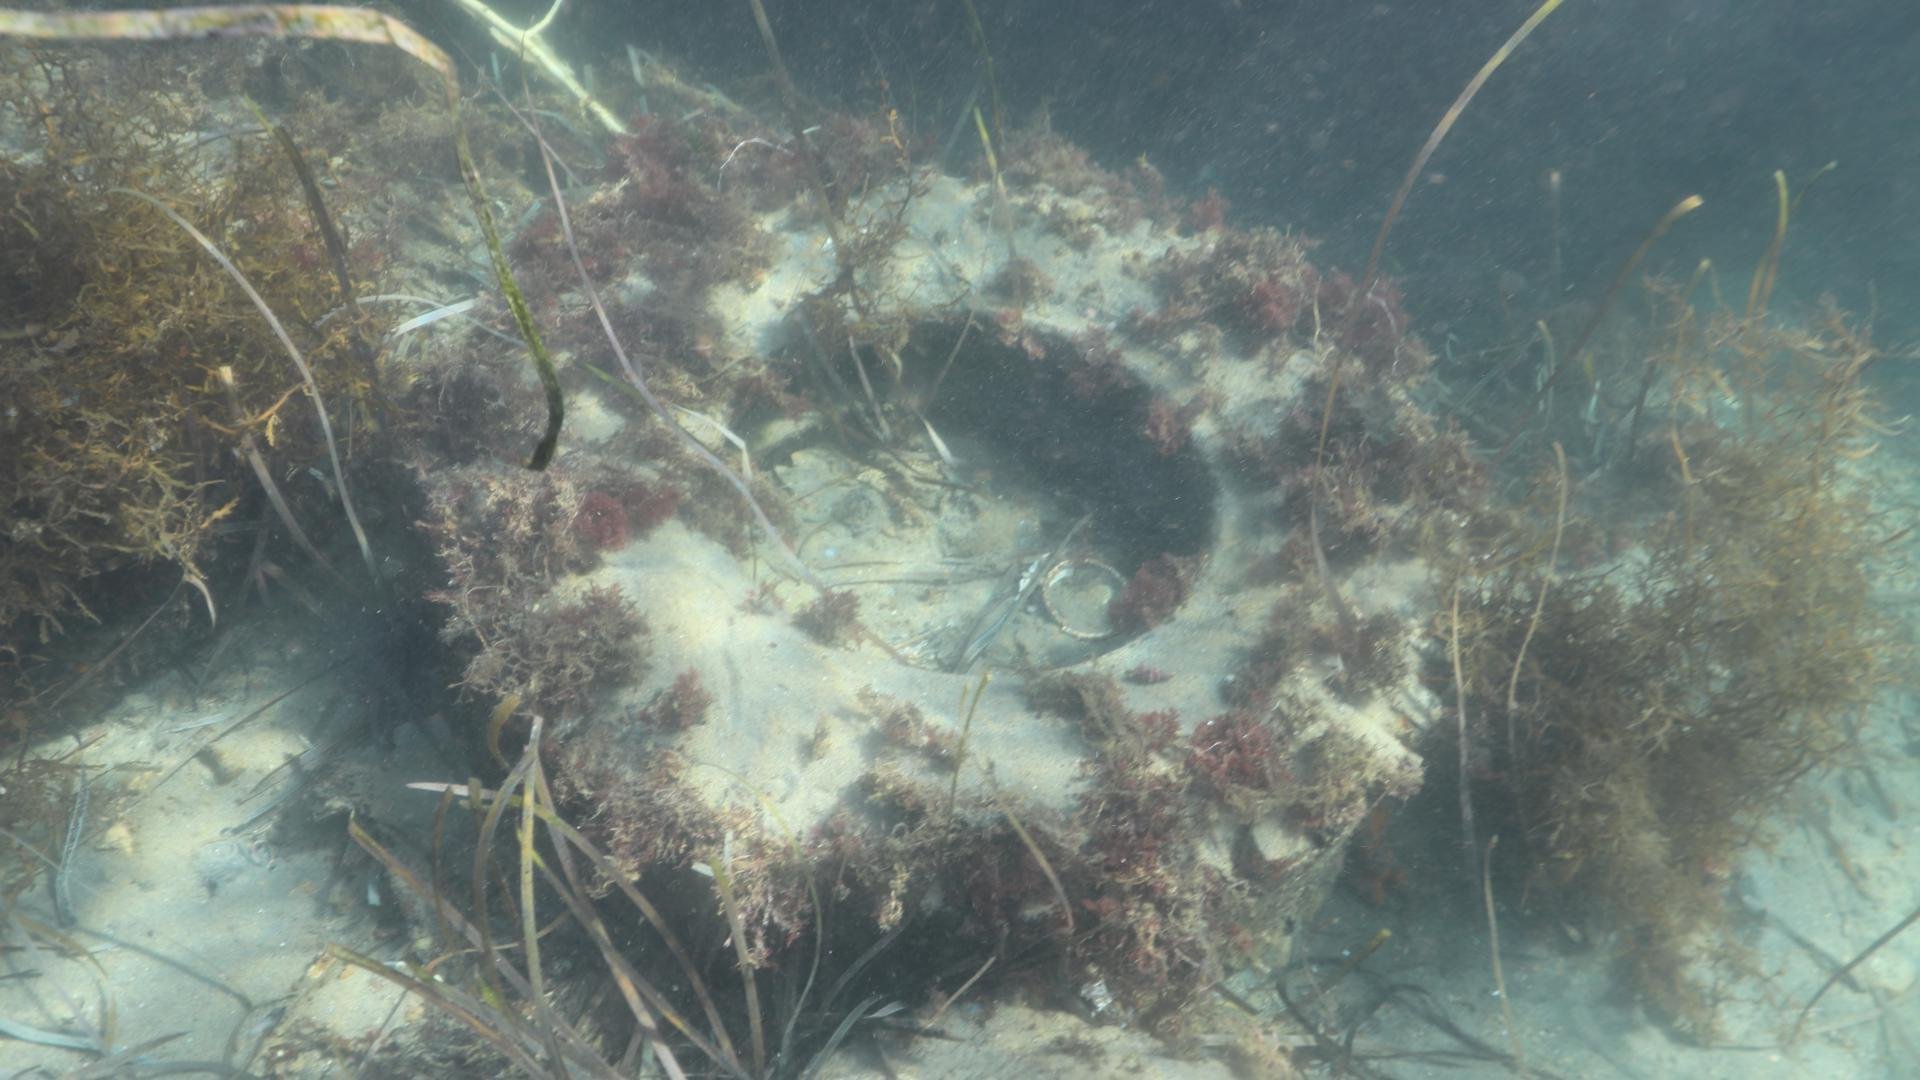tire: (535, 160, 1485, 1000)
